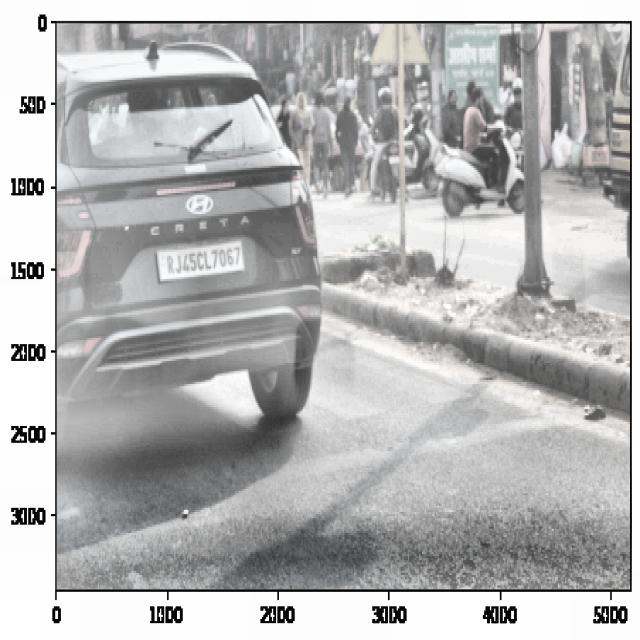license_plate: (162, 238, 245, 281)
